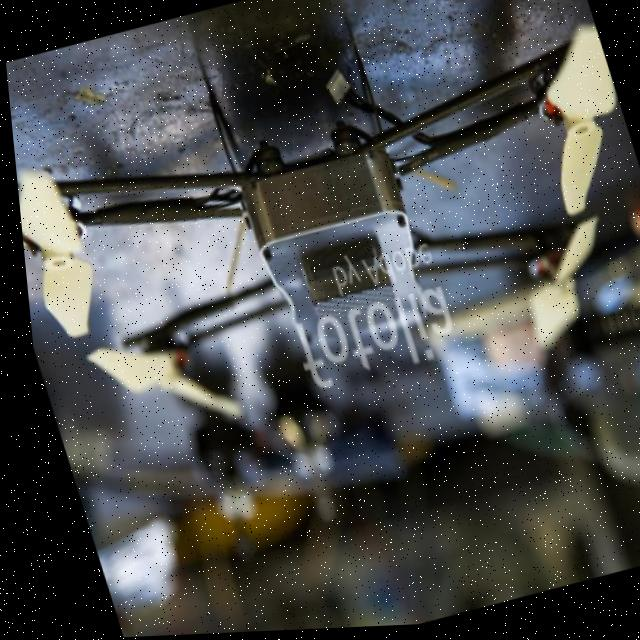drones: (2, 9, 640, 502)
